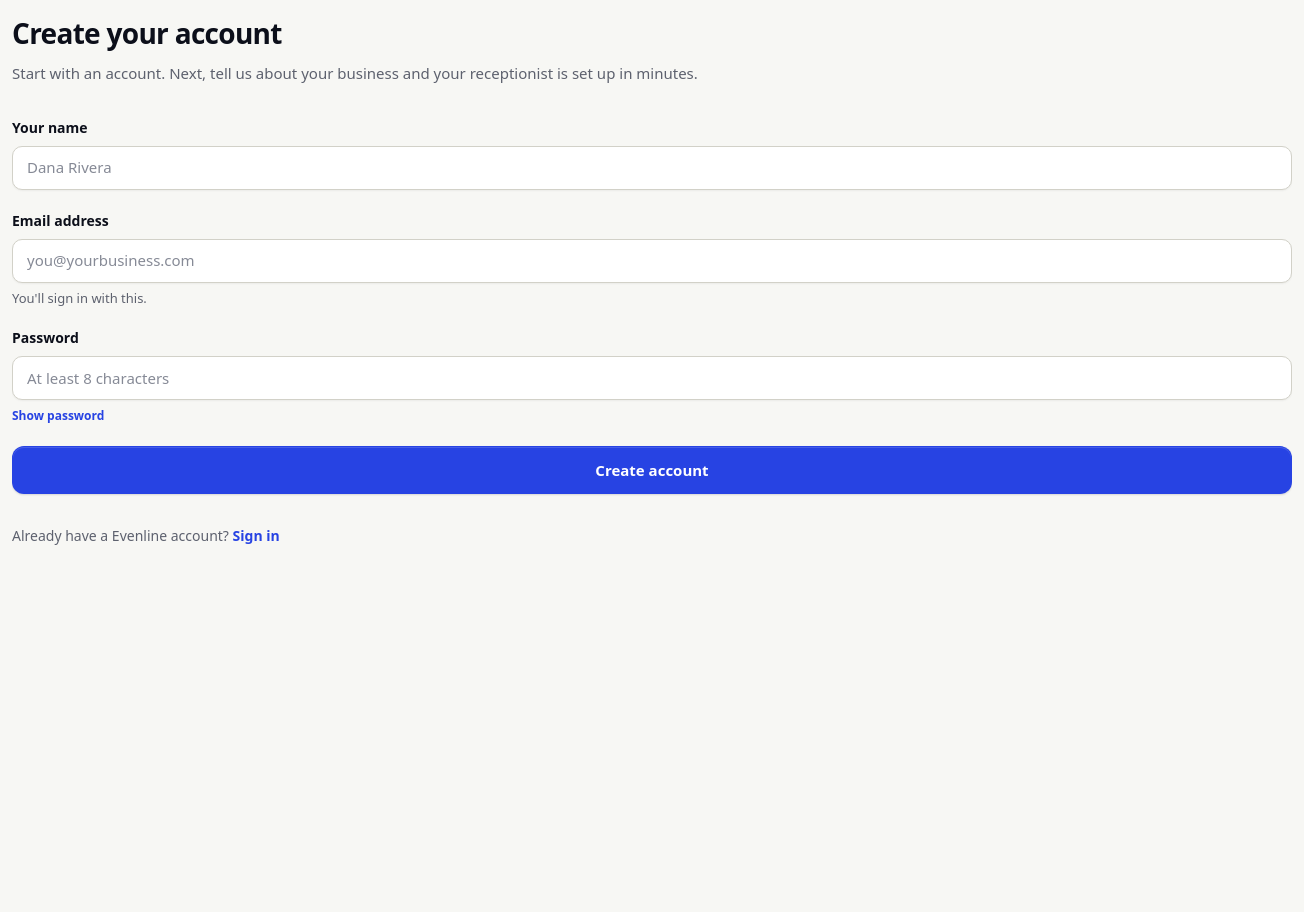
Test: creating an account › points an existing address to sign-in
This screenshot has width=1304, height=912.
Type "Dana" into the field labelled "Your name". click: (652, 168)
box: [12,146,1292,190]
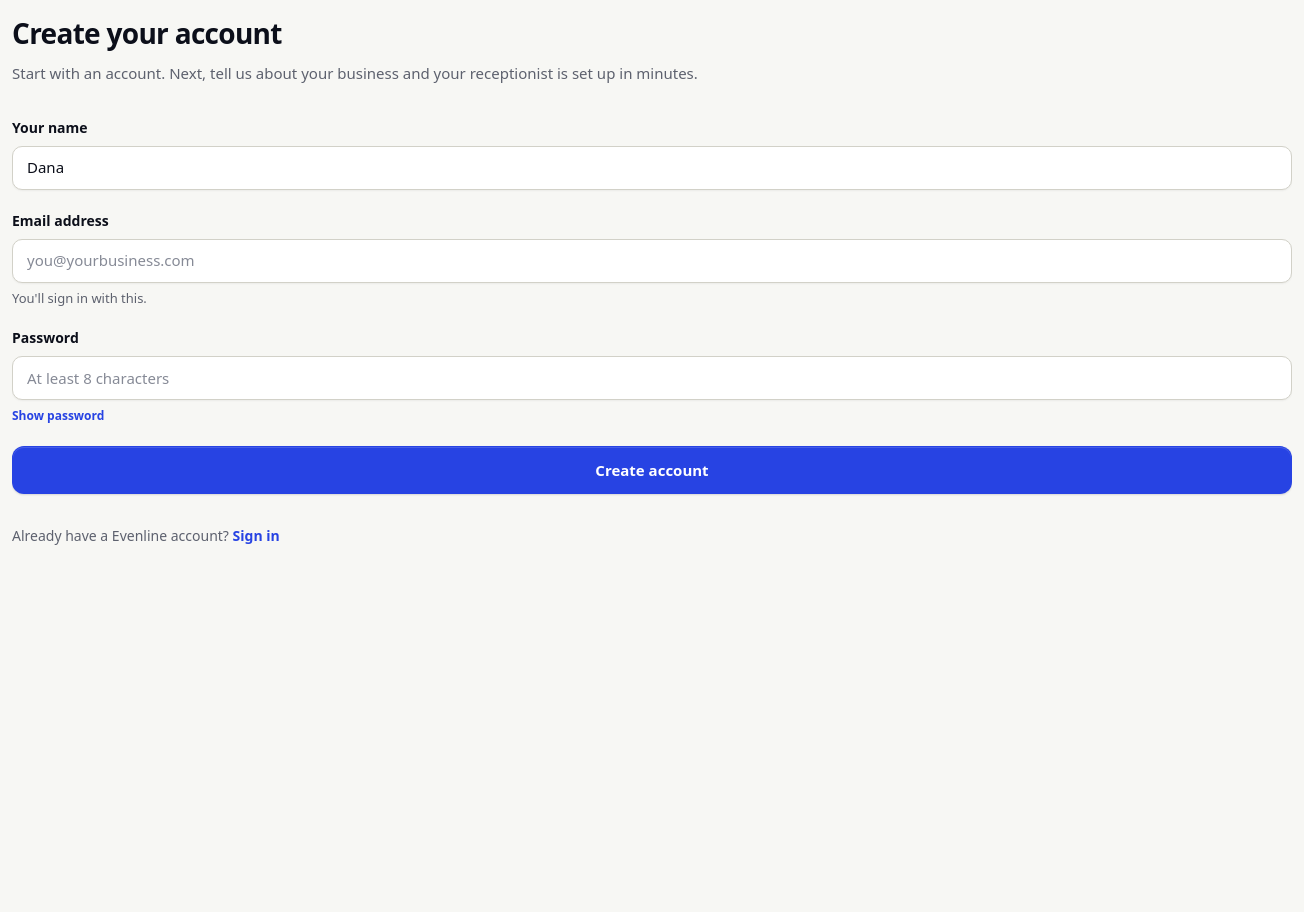
Type "dana@sunset.example" into the field labelled "Email address". click: (652, 260)
box: [12,238,1292,282]
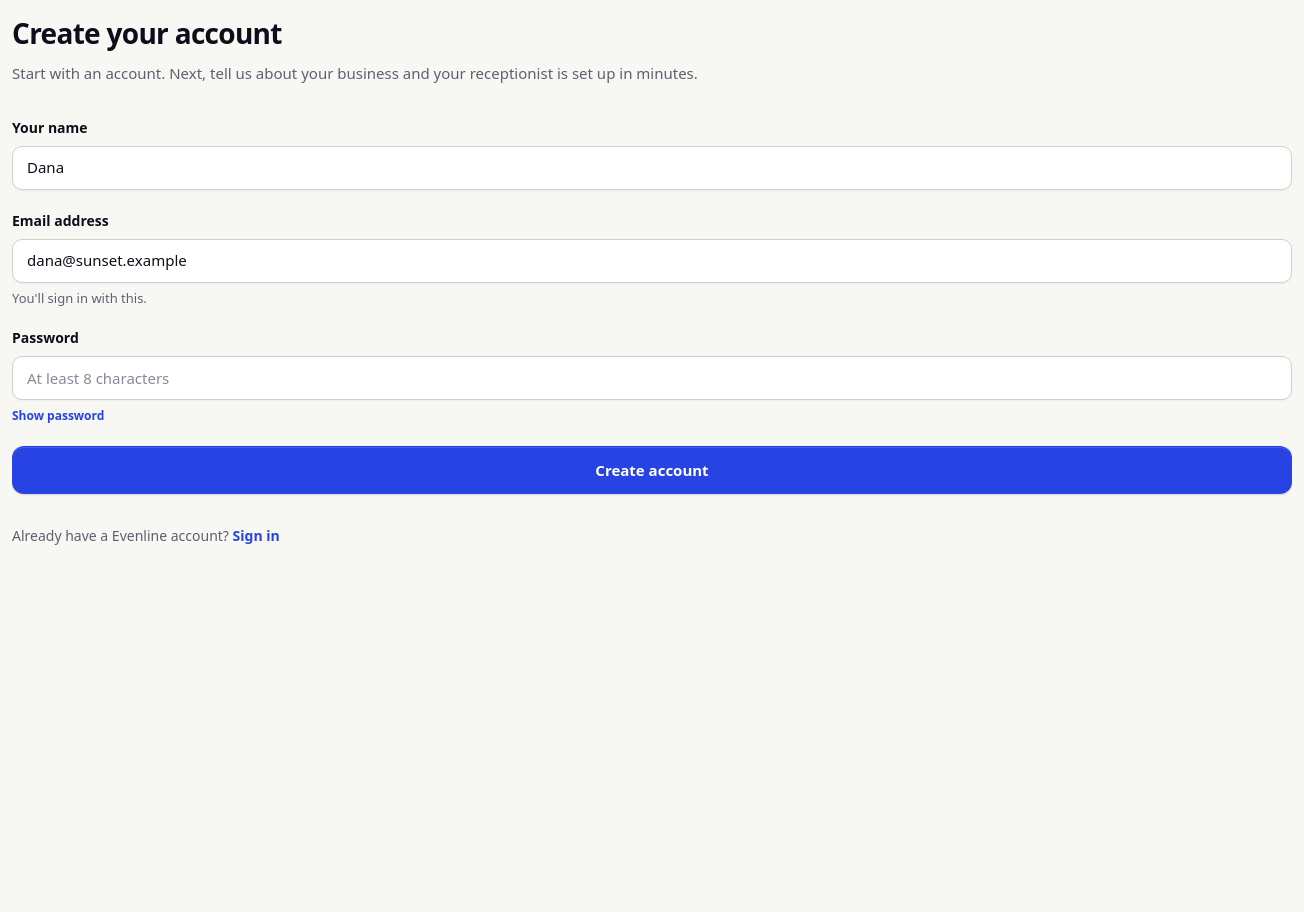
Type "long enough pw" into the password field labelled "Password". click: (652, 378)
box: [12,356,1292,400]
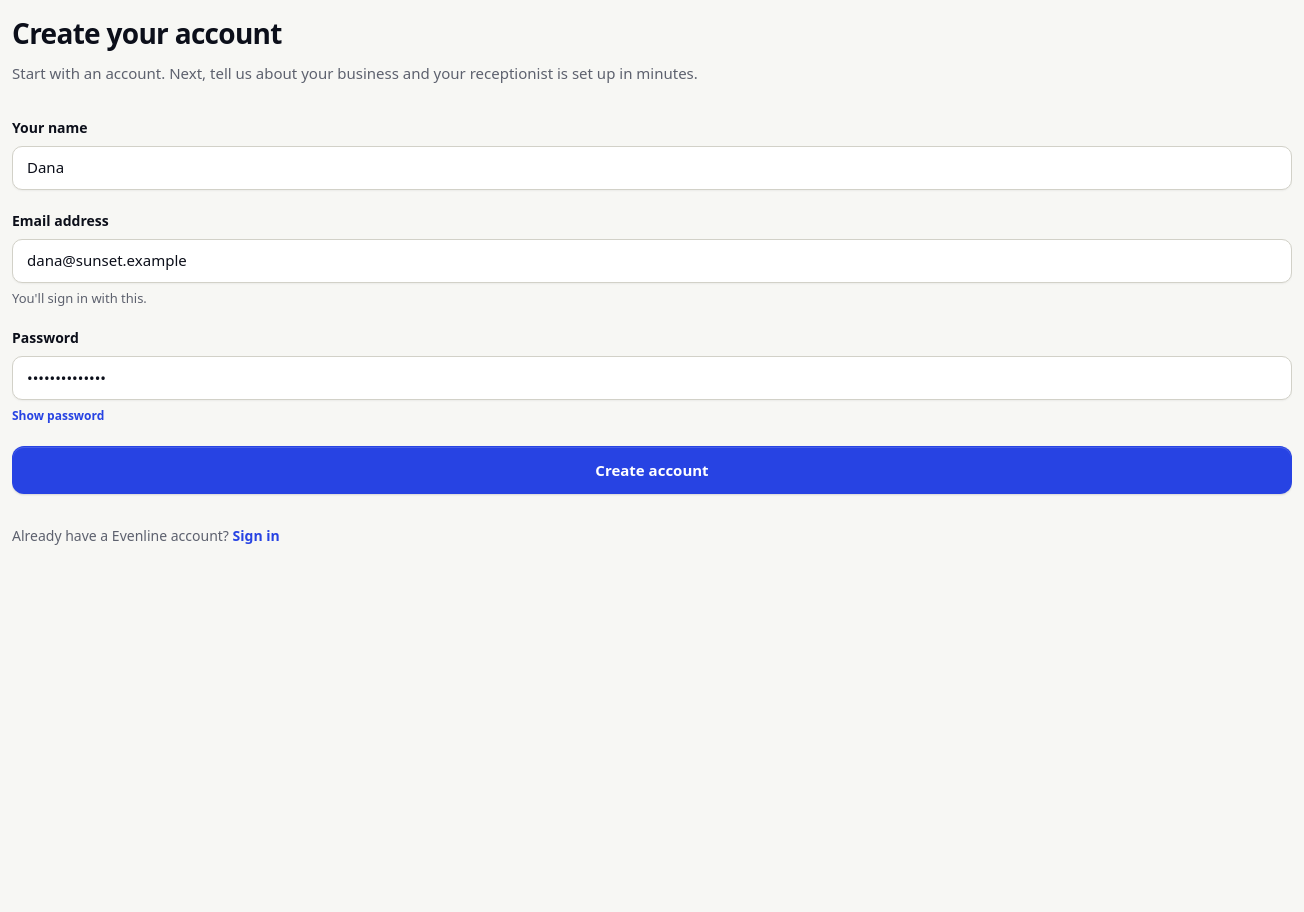
Click the button "Create account". click: (652, 470)
box: [12,446,1292,494]
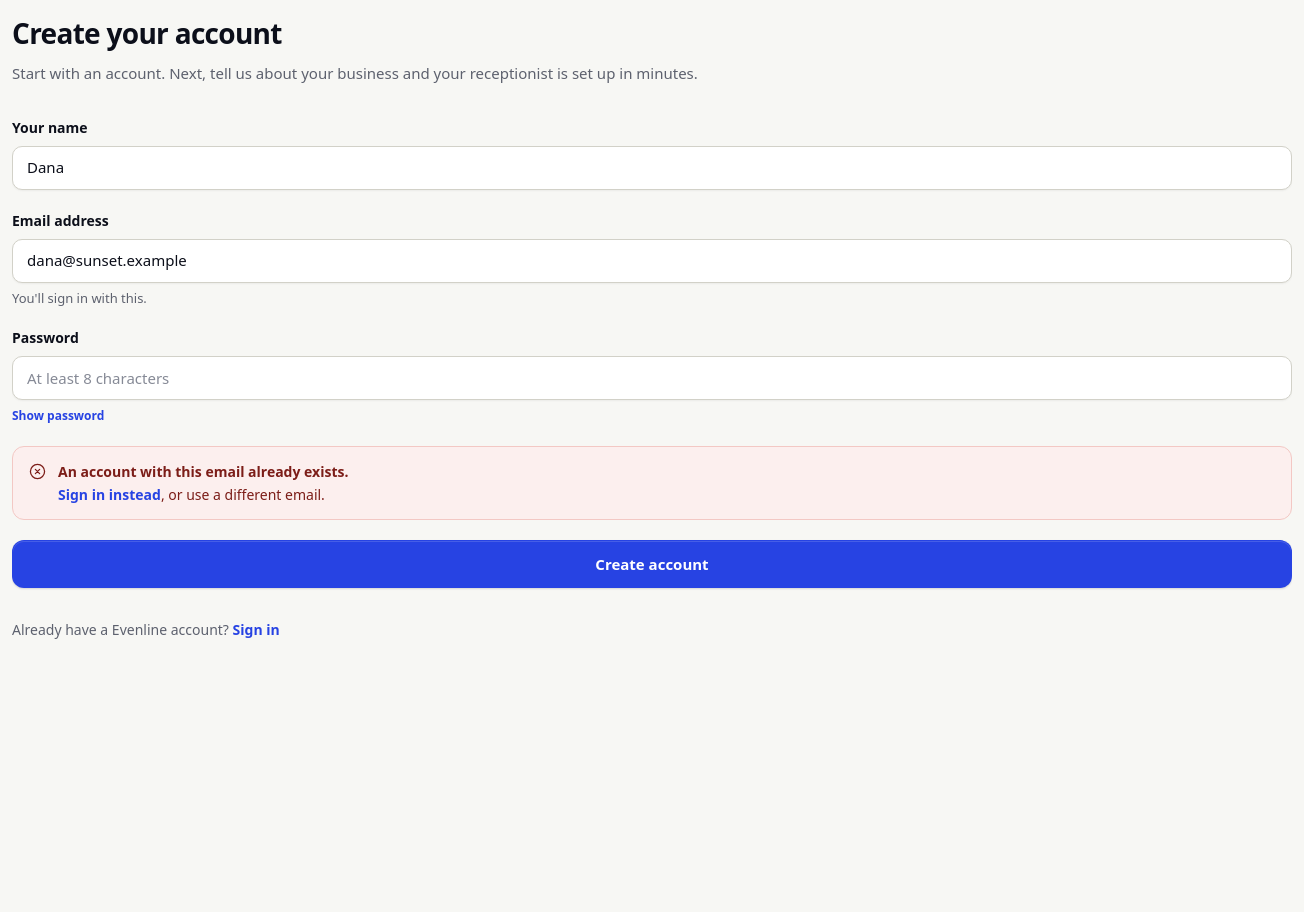
Now the text "An account with this email already exists." is shown, box [58,462,348,481]
Now the password field labelled "Password" is empty, box [12,356,1292,400]
